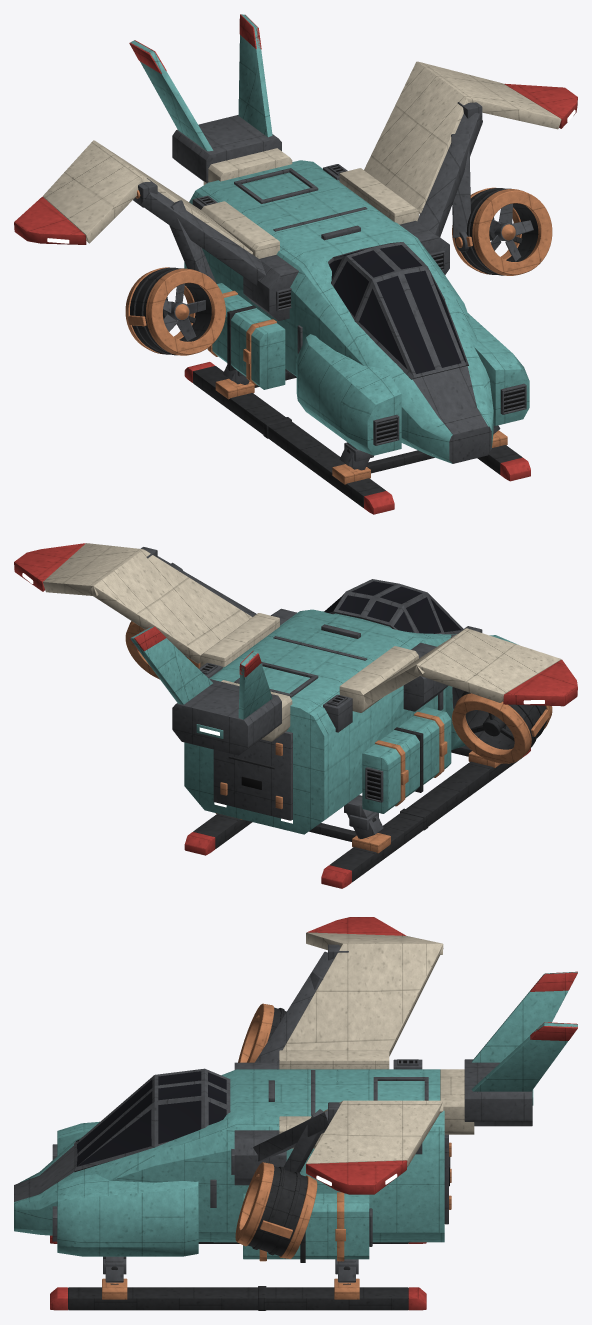
Rendered from ship_opus.glb.
3 views of the same model, one above another, from view 1: azimuth 30°, elevation 25°; view 2: azimuth 150°, elevation 25°; view 3: azimuth 270°, elevation 25° (orthographic).
Parts seen in each view (by area): view 1: Hull, Wing_L, Wing_R, Canopy, Nacelle_R, Skid_R, Nacelle_L, CargoPod_R, TailFin_L, TailFin_R, Skid_L, Rotor_R (+4 smaller); view 2: Hull, Wing_L, Wing_R, CargoPod_R, RearHatch, Skid_R, Nacelle_R, Canopy, TailFin_L, TailFin_R, Leg_Rear_R, Skid_L (+2 smaller); view 3: Hull, Wing_R, Wing_L, Canopy, Skid_L, Nacelle_L, CargoPod_L, TailFin_R, TailFin_L, Nacelle_R, Leg_Front_L, Leg_Rear_L (+1 smaller).
Boxes of the visible parts, box(x1,y1,x2,y2) form: Hull: box(172, 115, 529, 463); Wing_L: box(339, 61, 577, 237); Wing_R: box(14, 140, 279, 286); Canopy: box(328, 242, 468, 379); Nacelle_R: box(125, 267, 225, 355); Skid_R: box(184, 362, 394, 514); Nacelle_L: box(452, 187, 552, 275); CargoPod_R: box(207, 283, 285, 389); TailFin_L: box(238, 14, 272, 137); TailFin_R: box(129, 40, 213, 151); Skid_L: box(477, 445, 530, 481); Rotor_R: box(163, 283, 205, 341); Hull: box(172, 608, 518, 834); Wing_L: box(14, 543, 279, 667); Wing_R: box(339, 626, 577, 712); CargoPod_R: box(362, 707, 451, 813); RearHatch: box(213, 731, 292, 820); Skid_R: box(321, 748, 530, 888); Nacelle_R: box(452, 691, 552, 763); Canopy: box(324, 579, 463, 634); TailFin_L: box(129, 626, 212, 704); TailFin_R: box(238, 650, 272, 719); Leg_Rear_R: box(344, 795, 390, 853); Skid_L: box(184, 813, 252, 855); Hull: box(14, 1059, 533, 1256); Wing_R: box(255, 917, 443, 1069); Wing_L: box(253, 1100, 443, 1194); Canopy: box(74, 1068, 230, 1172); Skid_L: box(50, 1286, 426, 1310); Nacelle_L: box(235, 1162, 317, 1258); CargoPod_L: box(243, 1192, 372, 1262); TailFin_R: box(472, 971, 577, 1062); TailFin_L: box(471, 1022, 577, 1091); Nacelle_R: box(238, 1003, 286, 1062); Leg_Front_L: box(102, 1256, 127, 1299); Leg_Rear_L: box(334, 1259, 359, 1299).
Bounding box in the file's own units: 0.5979 × 0.2846 × 0.5317.
Materials: 9 (6 with a texture image).
